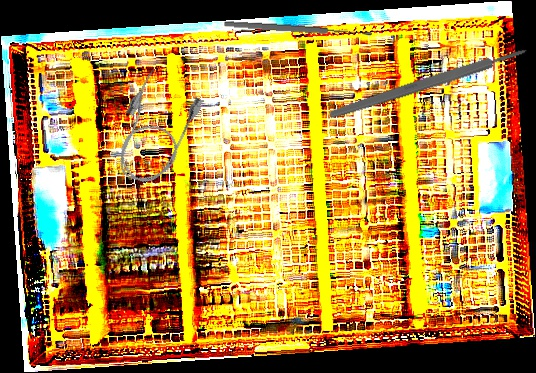Cannula: (101, 66, 208, 193)
Scalpel Handle: (327, 45, 529, 121)
Surgical Spoon: (223, 19, 373, 39)
